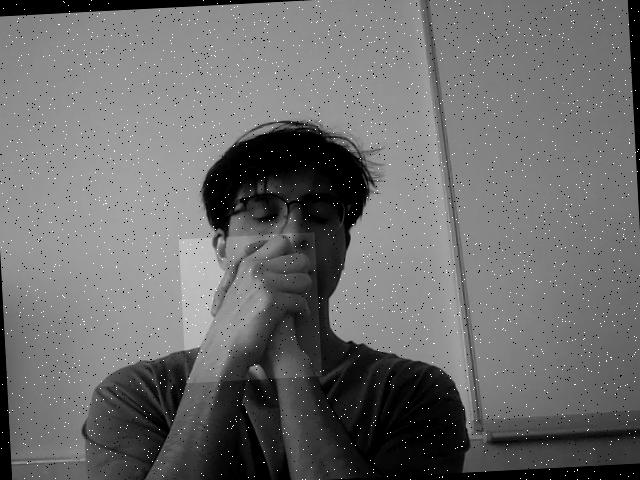friend: (186, 235, 317, 380)
